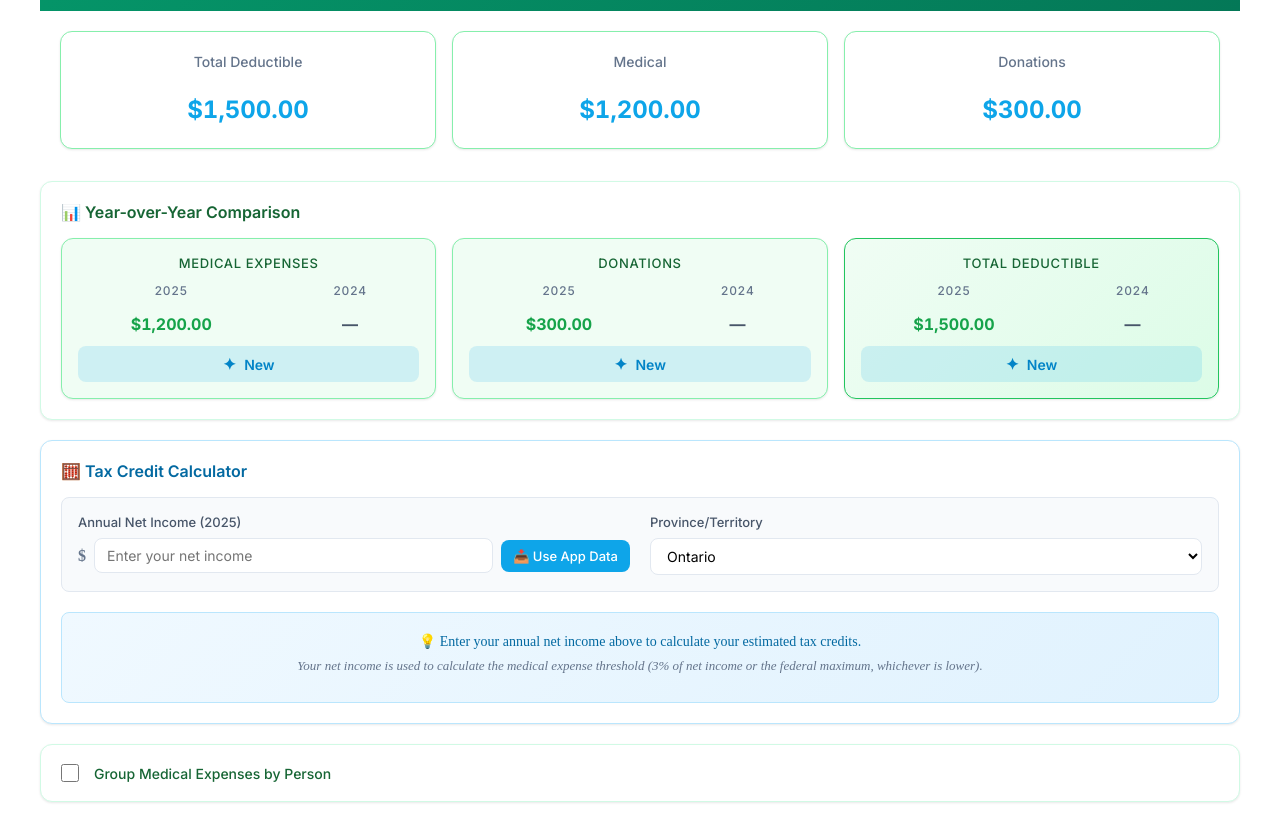
Test: TaxDeductible › Quick Assign Functionality › should display edit button for unassigned expenses
Expected: the text "Group Medical Expenses by Person" is shown, [94, 765, 331, 782]
Click the checkbox at (70, 773), box [61, 764, 79, 782]
(page scrolled)
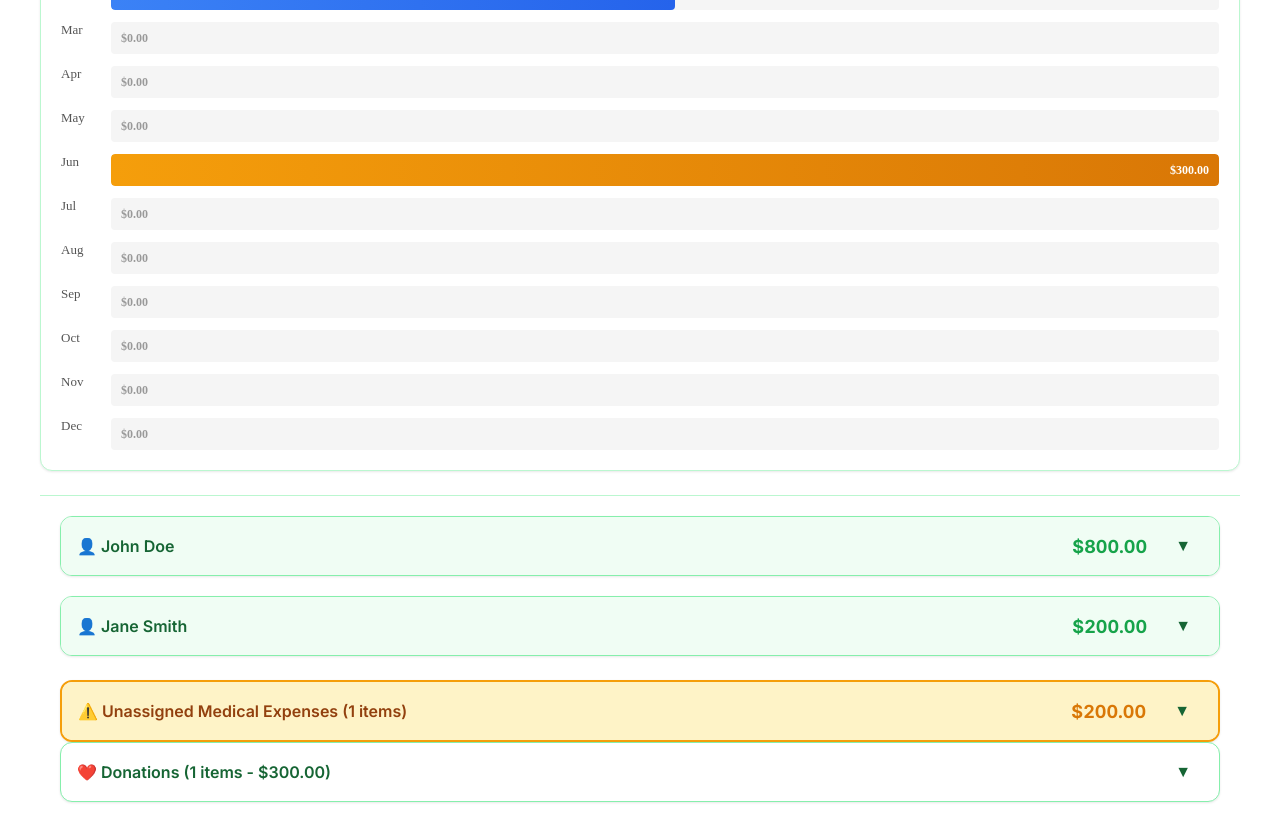
Now the heading "⚠️ Unassigned Medical Expenses (1 items)" is shown, box [78, 701, 407, 721]
Click the text "⚠️ Unassigned Medical Expenses (1 items) $200.00 ▼" at (640, 711), box [62, 682, 1218, 740]
(page scrolled)
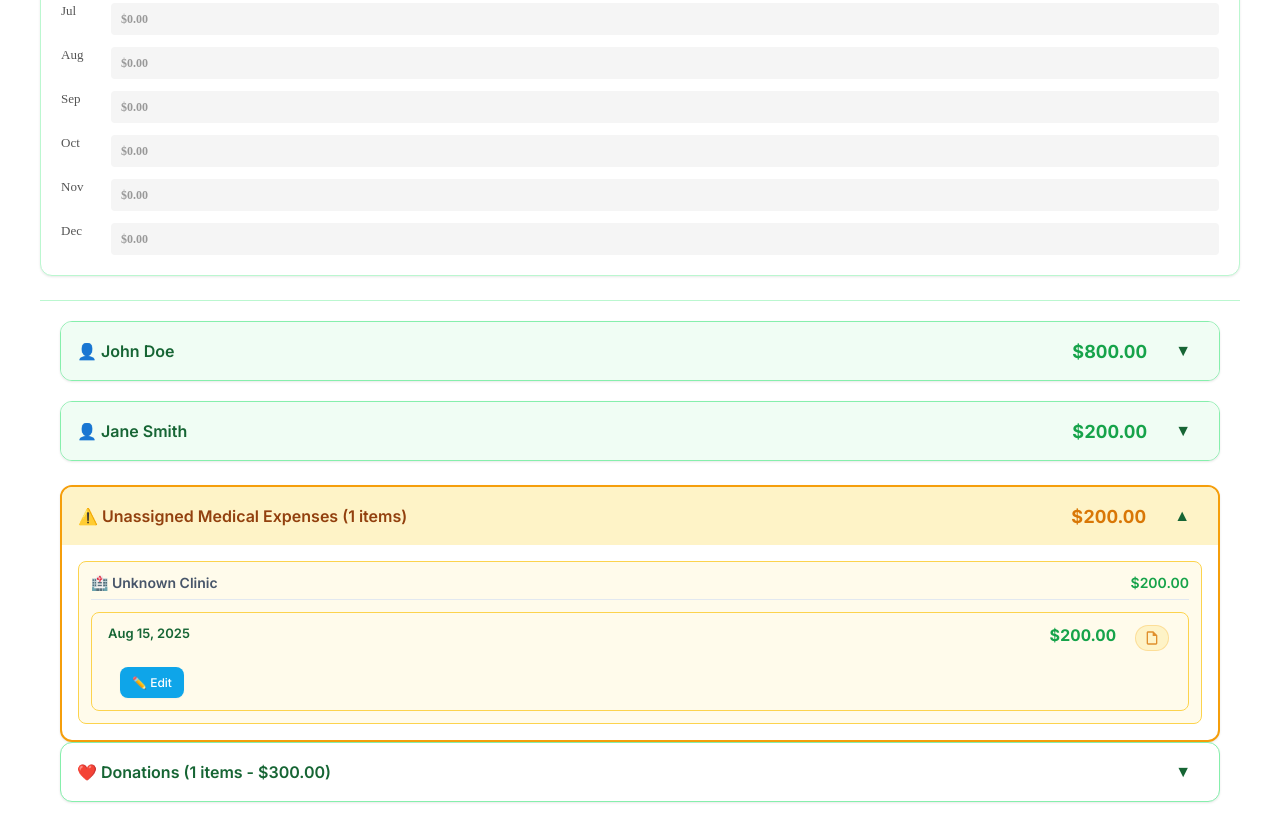
Now the button "✏️ Edit" is shown, box [120, 667, 184, 698]
